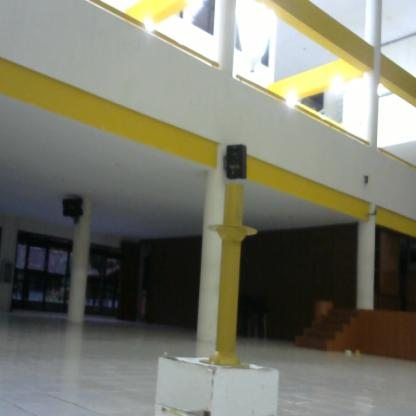pole: (201, 187, 259, 373)
